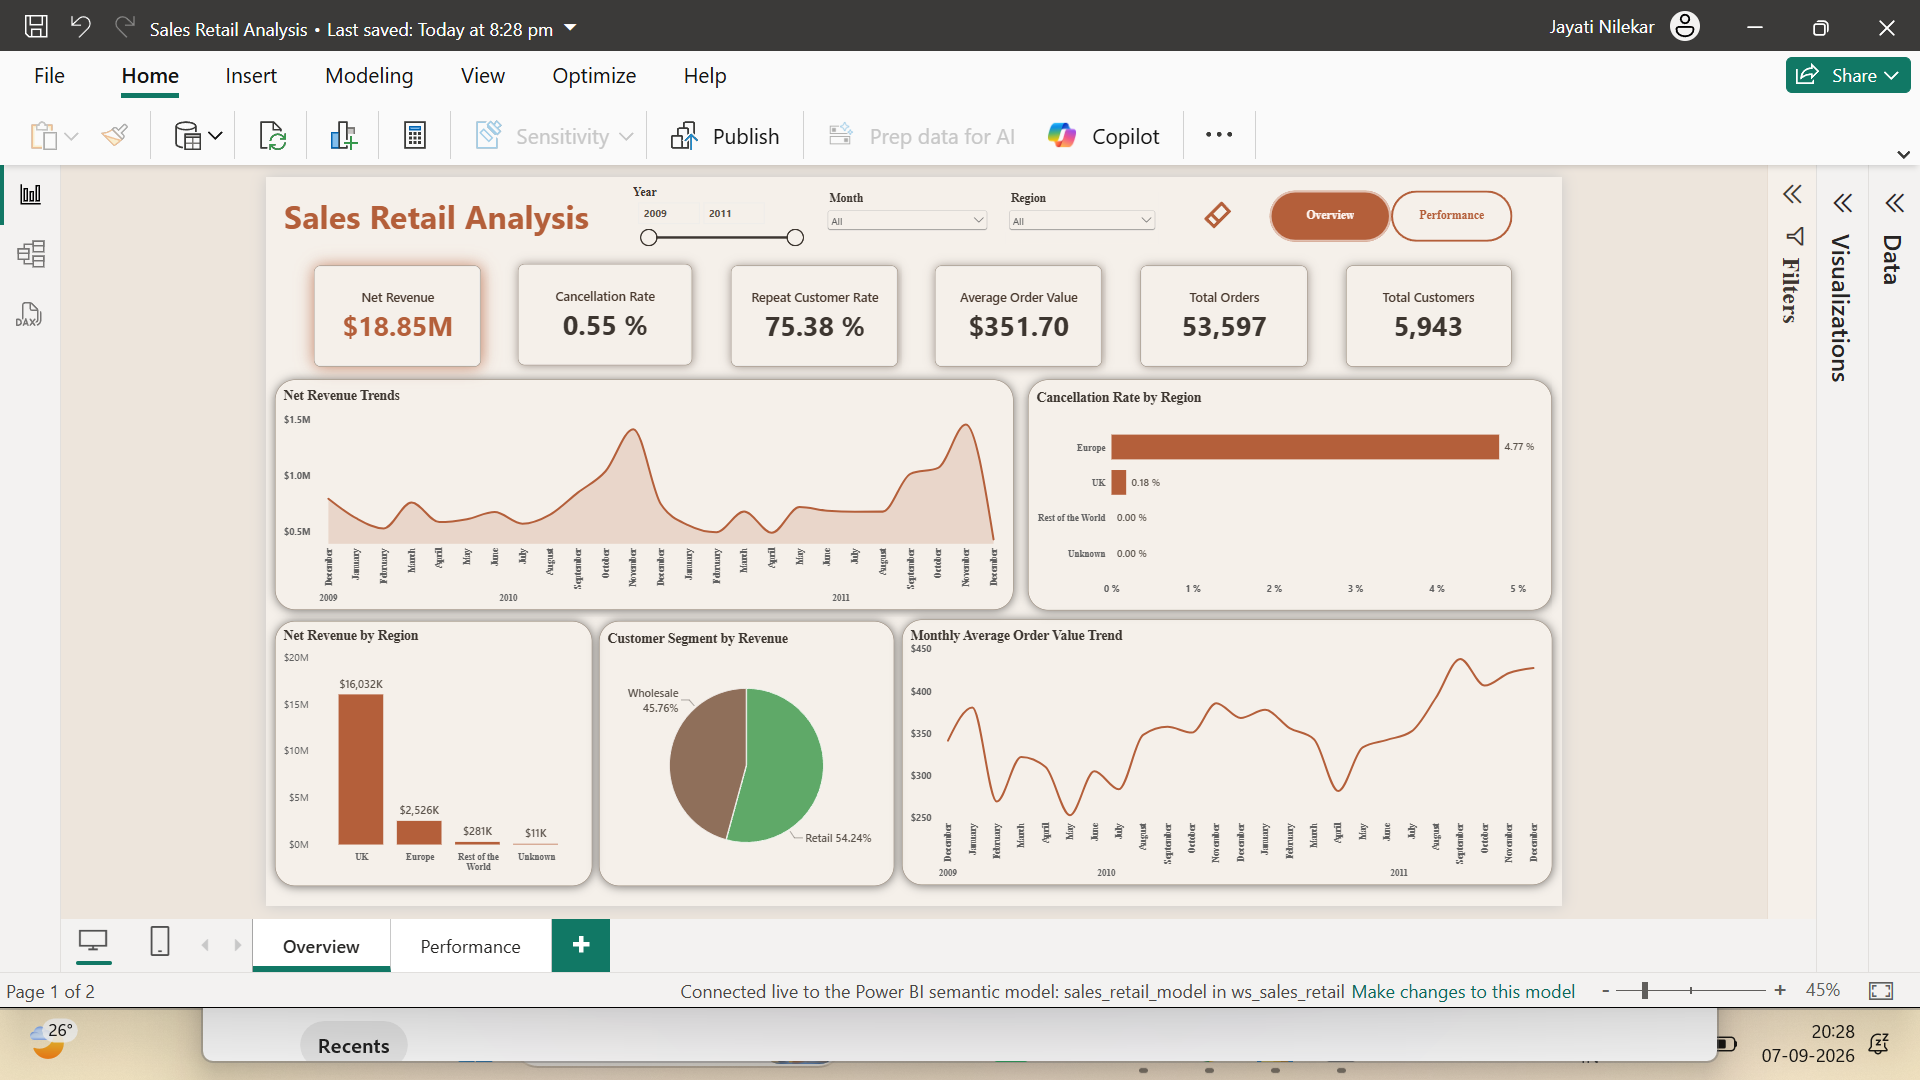

The dashboard page shown, as its layout file describes it:
{"tool":"powerbi","page":{"name":"Overview","canvas":[1920,1080],"ordinal":0},"visuals":[{"type":"textbox","box":[26.7,23.3,470,90],"z":0},{"type":"cardVisual","fields":{"Data":["fact_sales.Net Revenue"]},"box":[70,130,247.5,150],"z":1000},{"type":"slicer","title":"Year","fields":{"Values":["dim_date.year"]},"box":[536.7,13.3,262.5,93.8],"z":2000},{"type":"slicer","fields":{"Values":["dim_date.month_name"]},"box":[826.7,21.7,247.1,77.1],"z":3000},{"type":"slicer","fields":{"Values":["dim_region.region"]},"box":[1095,21.7,226.7,76.7],"z":4000},{"type":"cardVisual","fields":{"Data":["dim_customer.Cancellation Rate"]},"box":[374,128.8,257.7,150.3],"z":5000},{"type":"cardVisual","fields":{"Data":["fact_sales.Average Order Value"]},"box":[992.1,130,247.5,150],"z":6000},{"type":"clusteredColumnChart","title":"Net Revenue by Region","fields":{"Category":["dim_region.region"],"Y":["fact_sales.Net Revenue"]},"box":[12.9,657.1,470,404.3],"z":7000},{"type":"lineChart","title":"Net Revenue Trends","fields":{"Category":["dim_date.year","dim_date.month_name"],"Y":["fact_sales.Net Revenue"]},"box":[12.9,300,1094.3,341.4],"z":8000},{"type":"pageNavigator","box":[1486.7,20,360,76.7],"z":10000},{"type":"actionButton","box":[1367.5,17.5,86.7,76.7],"z":11000},{"type":"pieChart","title":"Customer Segment by Net Revenue","fields":{"Category":["dim_customer.customer_segment"],"Y":["fact_sales.Net Revenue"]},"box":[497.9,657.1,437.1,404.3],"z":12000},{"type":"cardVisual","fields":{"Data":["fact_sales.order count"]},"box":[1296,130,247.5,150],"z":13000},{"type":"cardVisual","fields":{"Data":["fact_sales.Customer Count"]},"box":[1600,130,245,150],"z":14000},{"type":"clusteredBarChart","title":"Cancellation Rate by Region","fields":{"Category":["dim_region.region"],"Y":["dim_customer.Cancellation Rate"]},"box":[1128.9,300,776.3,342.1],"z":15000},{"type":"cardVisual","fields":{"Data":["fact_sales.Repeat Customer Rate1"]},"box":[688.1,130,247.5,150],"z":16000},{"type":"pivotTable","title":"High-Volume Products: Cancellation Risk","fields":{"Rows":["dim_product.description"],"Values":["fact_sales.Net Revenue","fact_sales.order count","dim_customer.Cancelled Orders","dim_customer.Cancellation Rate"]},"box":[950,657.1,957.1,404.3],"z":17001}]}

Visuals, with their boxes on the page's 1920x1080 design canvas (x1, y1, x2, y2). These are canvas units, not pixel positions in the 1920x1080 screenshot, which may show the page scaled, cropped or inside an application window:
textbox: 27/23/497/113
cardVisual - fact_sales.Net Revenue: 70/130/318/280
"Year" slicer: 537/13/799/107
slicer - dim_date.month_name: 827/22/1074/99
slicer - dim_region.region: 1095/22/1322/98
cardVisual - dim_customer.Cancellation Rate: 374/129/632/279
cardVisual - fact_sales.Average Order Value: 992/130/1240/280
"Net Revenue by Region" clusteredColumnChart: 13/657/483/1061
"Net Revenue Trends" lineChart: 13/300/1107/641
pageNavigator: 1487/20/1847/97
actionButton: 1368/18/1454/94
"Customer Segment by Net Revenue" pieChart: 498/657/935/1061
cardVisual - fact_sales.order count: 1296/130/1544/280
cardVisual - fact_sales.Customer Count: 1600/130/1845/280
"Cancellation Rate by Region" clusteredBarChart: 1129/300/1905/642
cardVisual - fact_sales.Repeat Customer Rate1: 688/130/936/280
"High-Volume Products: Cancellation Risk" pivotTable: 950/657/1907/1061
